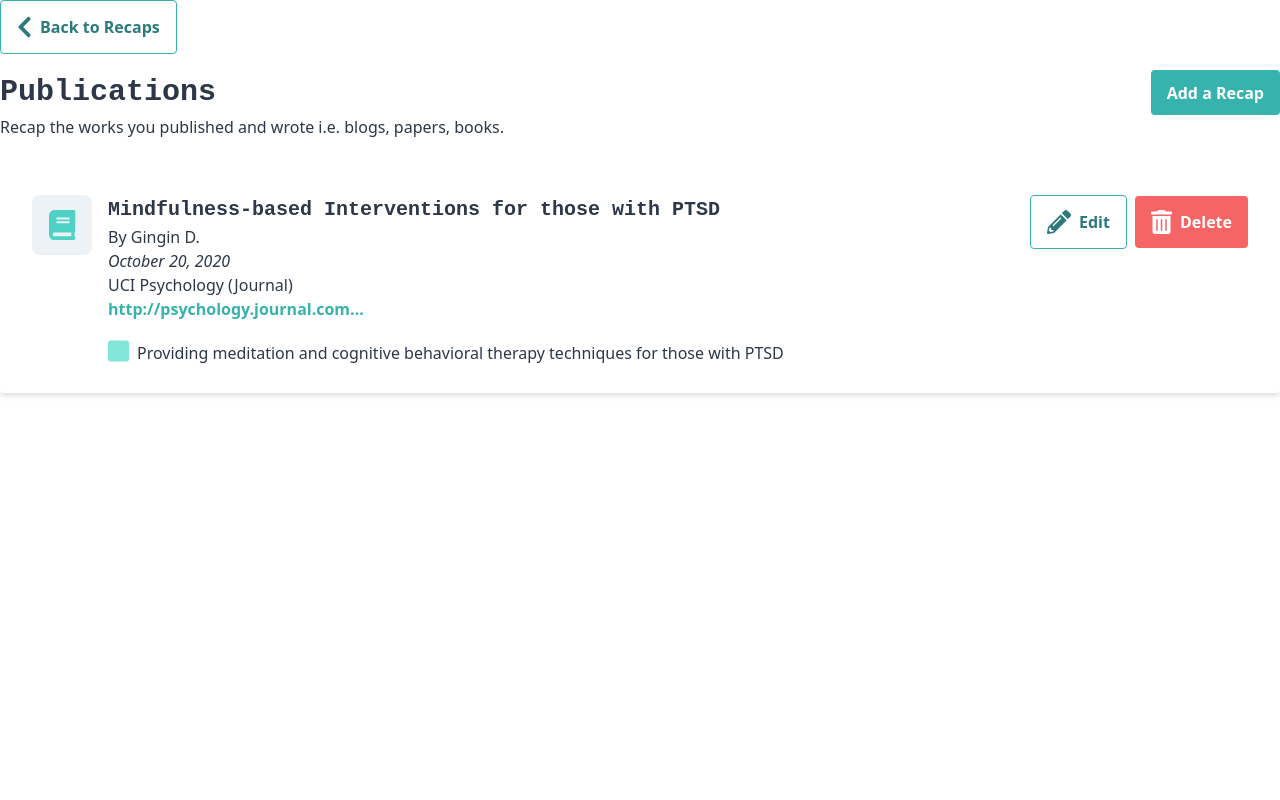
<PublicationsLayout /> › should show the success alert after updating a recap successfully
Step 1. Click the button "Edit" → click(1078, 222), box 1030,195 -> 1127,249
(page scrolled)
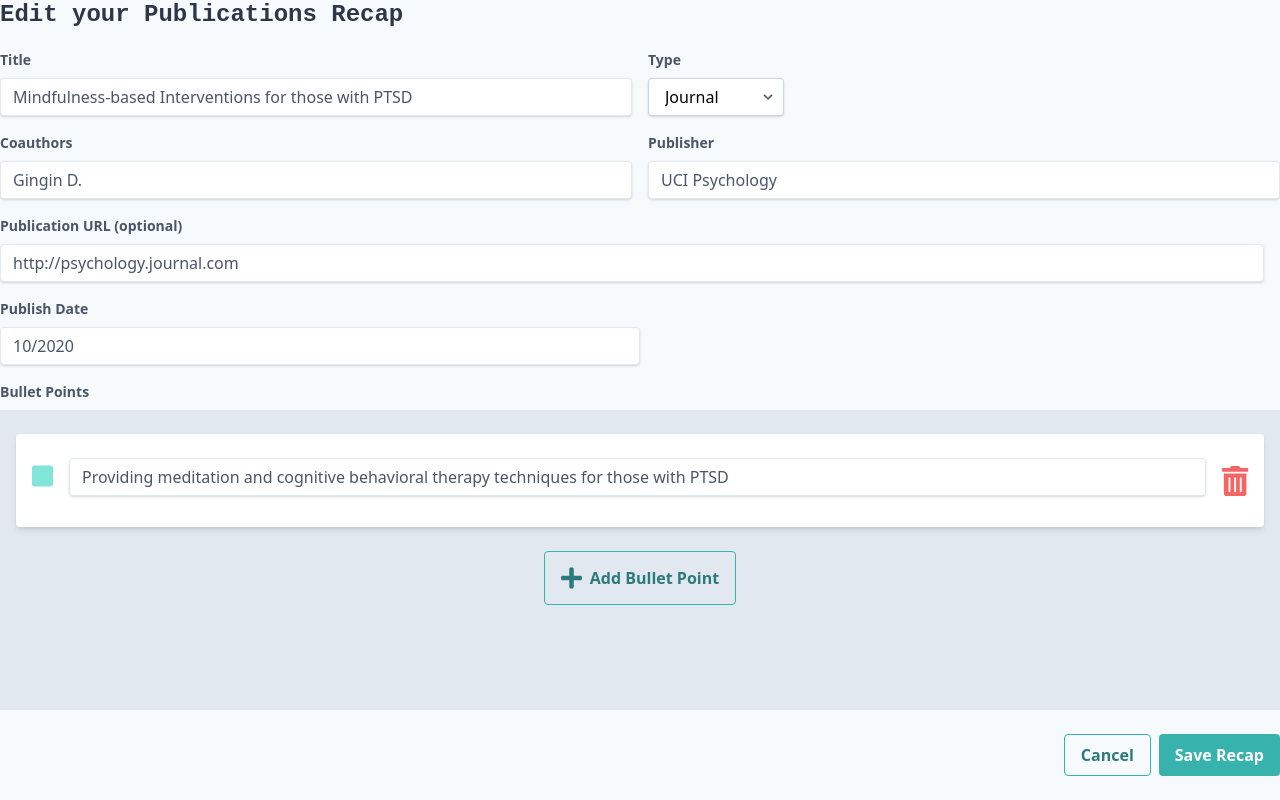
Check: the heading "Edit your Publications Recap" is shown, box 0,1 -> 403,28
Check: the button with test id "publicationsSaveButton" is enabled
Step 2. Click the button with test id "publicationsSaveButton" → click(1219, 755), box 1159,734 -> 1279,776
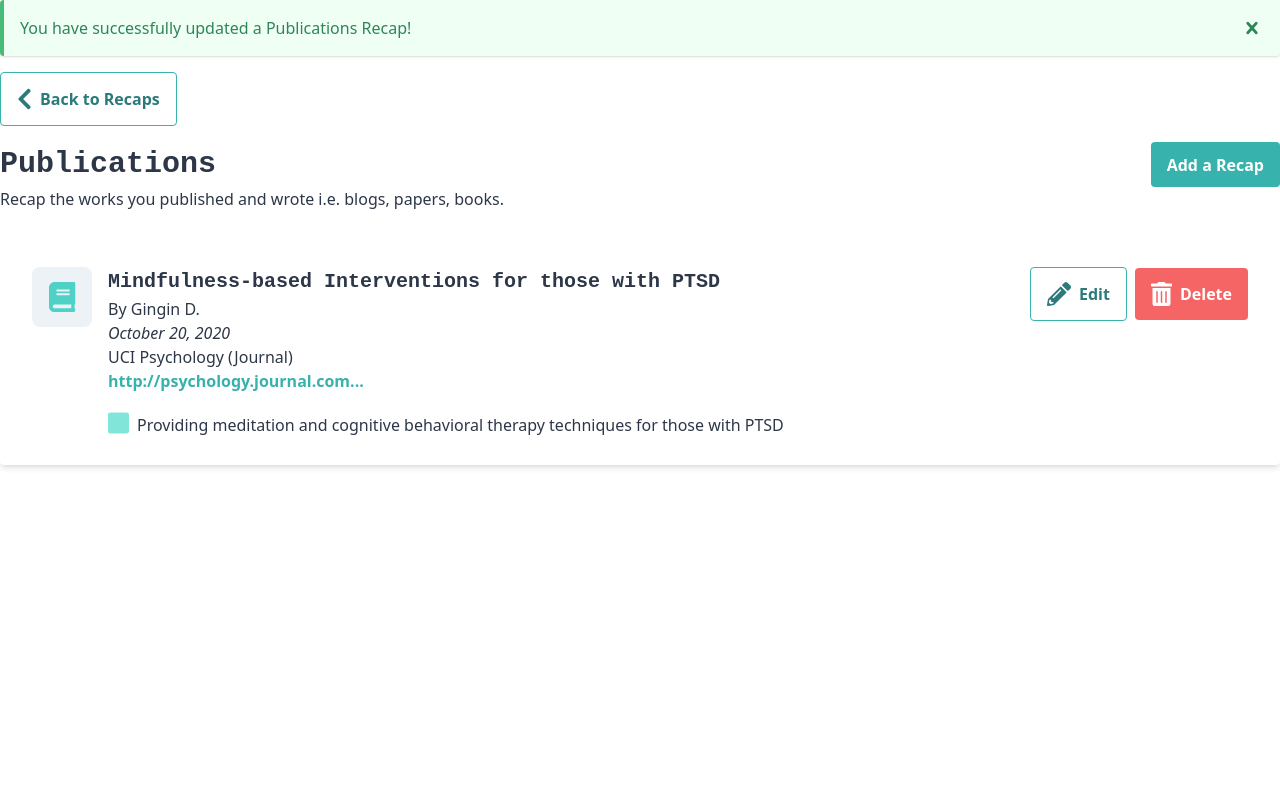
Check: the text "You have successfully updated a Publications Recap!" is shown, box 20,17 -> 411,39
